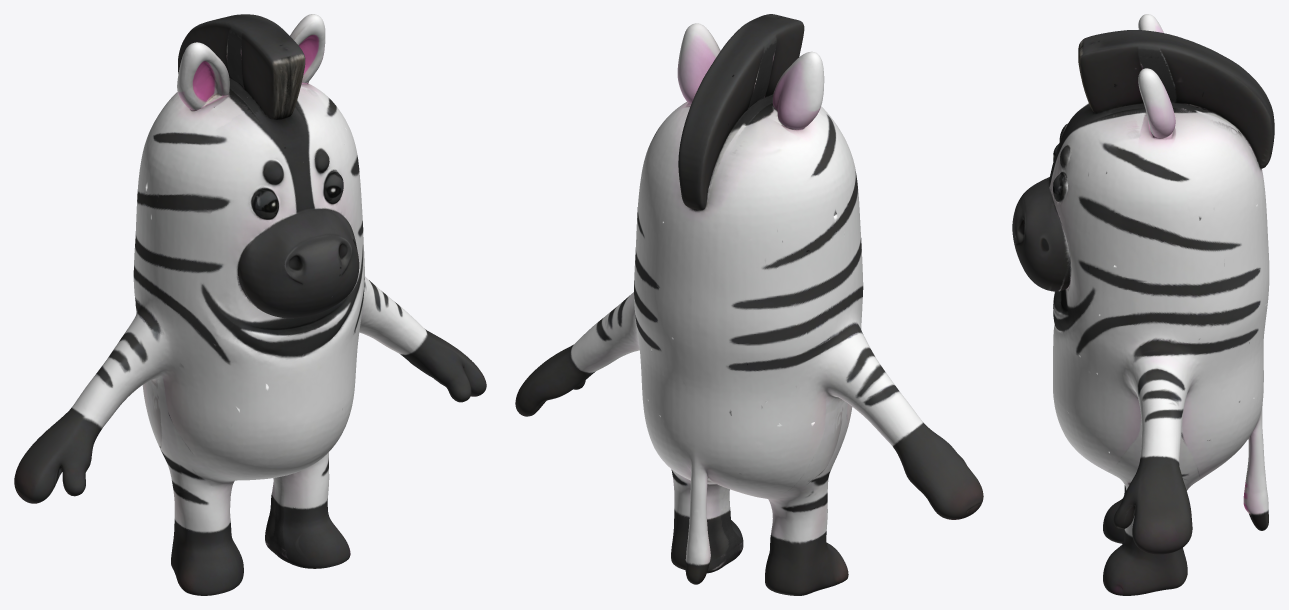
File: ZEBRA.fbx
3 renders of one model, left to right at view 1: azimuth 30°, elevation 25°; view 2: azimuth 150°, elevation 25°; view 3: azimuth 270°, elevation 25°, orthographic. The views are drawn at different scales.
Parts seen in each view (by area): view 1: Mesh_0.152; view 2: Mesh_0.152; view 3: Mesh_0.152.
Part boxes in pixels (<box>): Mesh_0.152: <box>14,14,486,595</box>; Mesh_0.152: <box>515,14,983,595</box>; Mesh_0.152: <box>1012,14,1274,595</box>.
Size of the model in its own units: 178 by 200 by 90.77.
1 material, 1 textured.
